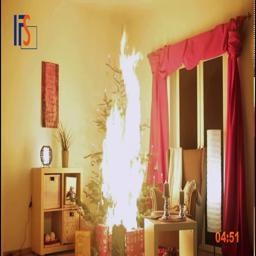fire: (93, 27, 151, 233)
